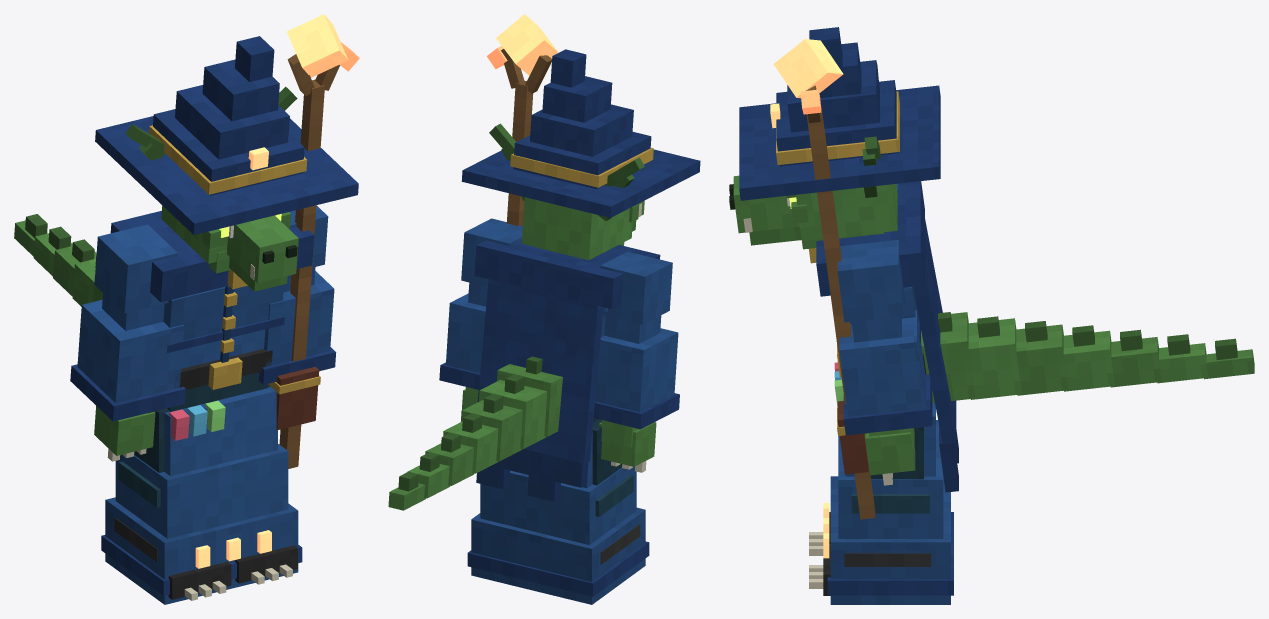
File: lizard_mage_v2.glb
3 renders of one model, left to right at view 1: azimuth 30°, elevation 25°; view 2: azimuth 150°, elevation 25°; view 3: azimuth 270°, elevation 25°, orthographic. The views are drawn at different scales.
Visible parts, largest first — view 1: Head, Root, Torso, ArmR, HandL, ArmL, LegR, LegL; view 2: Torso, Head, Root, ArmR, ArmL, HandL, LegR; view 3: Torso, Head, ArmL, Root, HandL, LegL.
Part boxes in pixels (<box>): Head: <box>95,36,358,291</box>; Root: <box>101,386,302,604</box>; Torso: <box>14,210,320,440</box>; ArmR: <box>70,224,185,461</box>; HandL: <box>279,14,359,468</box>; ArmL: <box>259,206,336,384</box>; LegR: <box>114,408,231,599</box>; LegL: <box>235,384,297,583</box>; Torso: <box>388,240,660,510</box>; Head: <box>461,49,700,259</box>; Root: <box>467,431,649,604</box>; ArmR: <box>593,251,679,472</box>; ArmL: <box>439,218,522,410</box>; HandL: <box>487,14,558,226</box>; LegR: <box>592,419,640,564</box>; Torso: <box>809,181,1254,492</box>; Head: <box>729,27,940,249</box>; ArmL: <box>837,240,932,485</box>; Root: <box>809,403,953,604</box>; HandL: <box>773,39,875,519</box>; LegL: <box>823,427,931,595</box>.
Bounding box in the file's own units: 0.8774 × 2.11 × 1.75.
37 materials, 37 textured.
